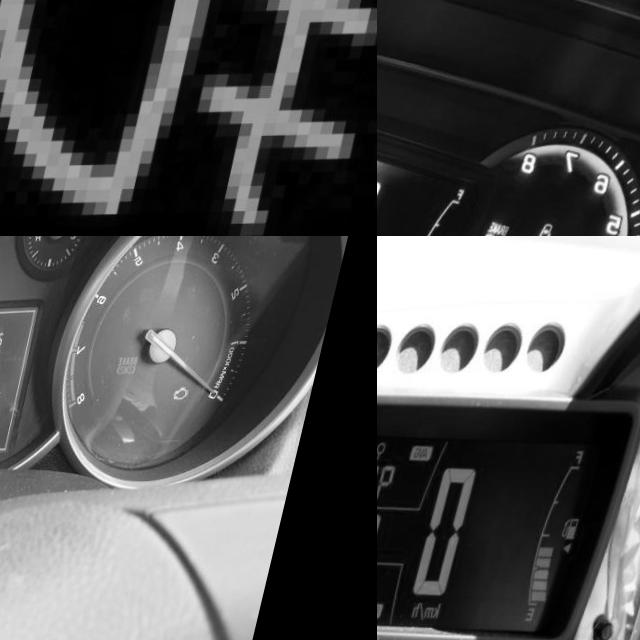Doors: (551, 221, 575, 236)
FrontFogLight: (0, 0, 377, 217)
